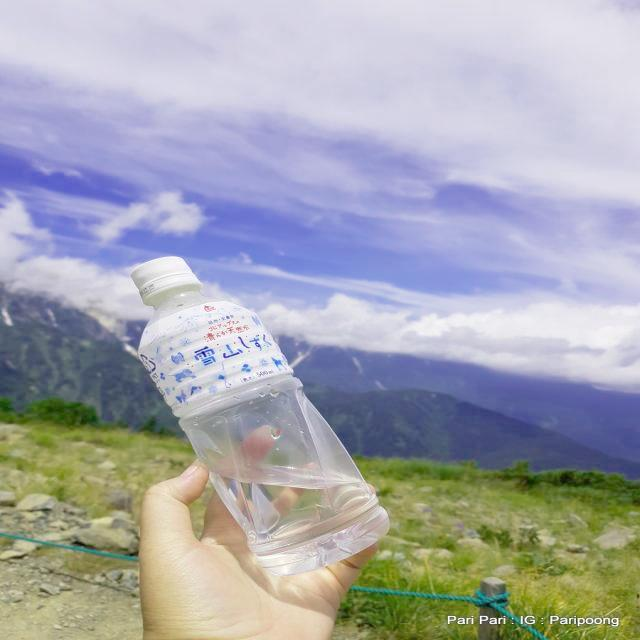bottle: (130, 257, 390, 577)
